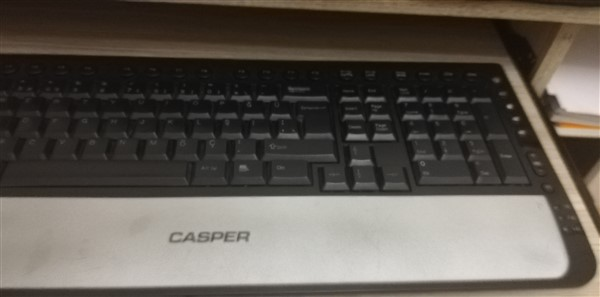klavye: (1, 49, 591, 295)
